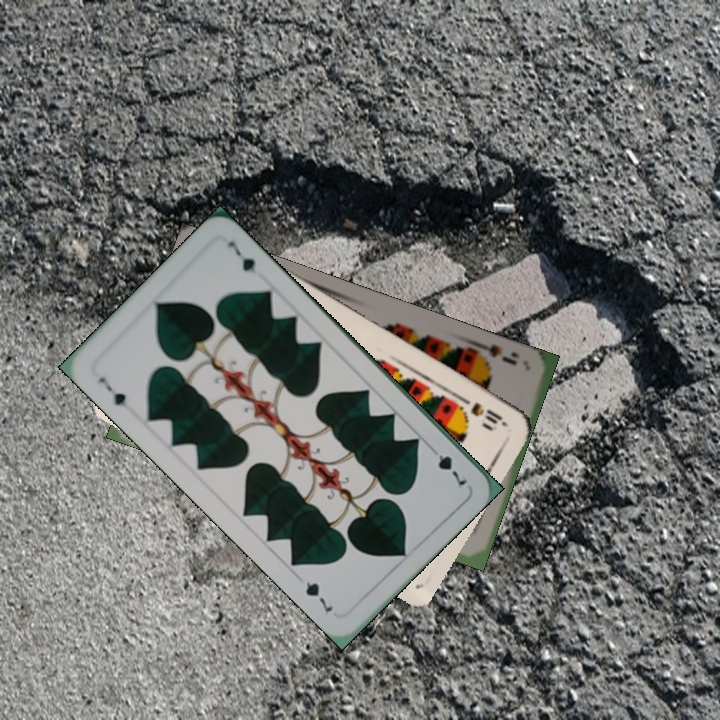G7: (424, 441, 471, 489), (94, 373, 129, 409)
S10: (455, 392, 509, 429)
S9: (470, 338, 521, 368)
